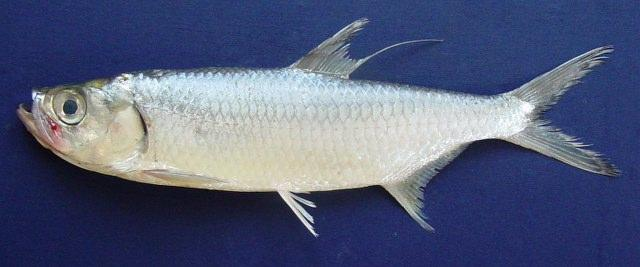Mulut: (5, 70, 55, 136)
Sirip Anal: (381, 143, 474, 233)
Sirip Dada: (138, 162, 230, 208)
Sirip Ekor: (510, 37, 626, 183)
Sirip Perut: (267, 173, 337, 247)
Sirip Punggung: (288, 7, 440, 93)
